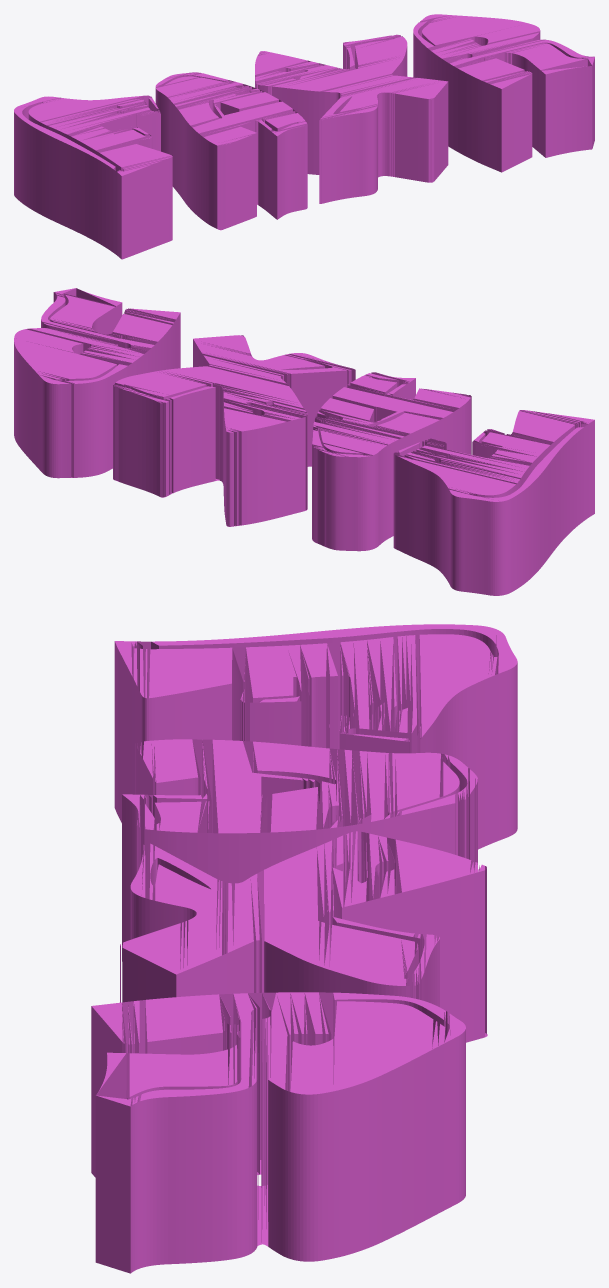
File: FAXR3D.fbx
The picture shows the model from 3 angles, top to bottom: view 1: azimuth 30°, elevation 25°; view 2: azimuth 150°, elevation 25°; view 3: azimuth 270°, elevation 25°; orthographic projection. The views are drawn at different scales.
Parts seen in each view (by area): view 1: Curve.001; view 2: Curve.001; view 3: Curve.001.
Part boxes in pixels (bbox=[...]): Curve.001: bbox=[14, 14, 594, 259]; Curve.001: bbox=[14, 288, 594, 595]; Curve.001: bbox=[91, 624, 517, 1273].
Bounding box in the file's own units: 831 × 134 × 310.
